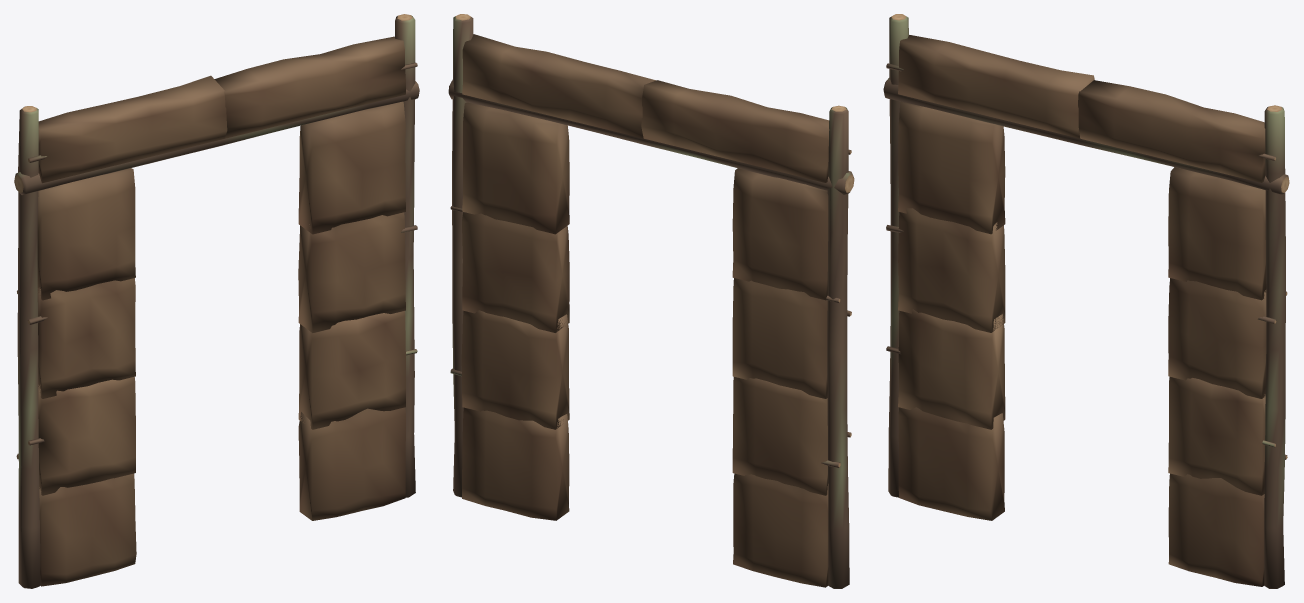
The model's file is doorway.glb.
3 views of the same model, side by side, from view 1: azimuth 30°, elevation 25°; view 2: azimuth 150°, elevation 25°; view 3: azimuth 330°, elevation 25° (orthographic).
Parts seen in each view (by area): view 1: Part_10, Part_08, Part_09, Part_07, Part_00, Part_01, Part_02; view 2: Part_10, Part_08, Part_09, Part_07, Part_00, Part_01, Part_02; view 3: Part_08, Part_10, Part_07, Part_09, Part_01, Part_00, Part_02.
Boxes of the visible parts, left/top/right/bottom form: Part_10: left=214, top=36, right=405, bottom=332; Part_08: left=37, top=75, right=227, bottom=398; Part_09: left=298, top=311, right=405, bottom=520; Part_07: left=38, top=377, right=136, bottom=586; Part_00: left=17, top=106, right=40, bottom=588; Part_01: left=395, top=14, right=415, bottom=497; Part_02: left=14, top=81, right=419, bottom=194; Part_10: left=462, top=34, right=655, bottom=332; Part_08: left=641, top=80, right=829, bottom=398; Part_09: left=461, top=310, right=569, bottom=520; Part_07: left=732, top=377, right=828, bottom=587; Part_00: left=827, top=105, right=849, bottom=588; Part_01: left=452, top=14, right=473, bottom=497; Part_02: left=448, top=80, right=854, bottom=194; Part_08: left=898, top=35, right=1094, bottom=332; Part_10: left=1078, top=80, right=1266, bottom=398; Part_07: left=898, top=309, right=1005, bottom=520; Part_09: left=1168, top=377, right=1265, bottom=586; Part_01: left=1264, top=105, right=1285, bottom=588; Part_00: left=888, top=14, right=908, bottom=497; Part_02: left=883, top=78, right=1289, bottom=194.
Bounding box in the file's own units: 2.02 × 2.32 × 0.174.
